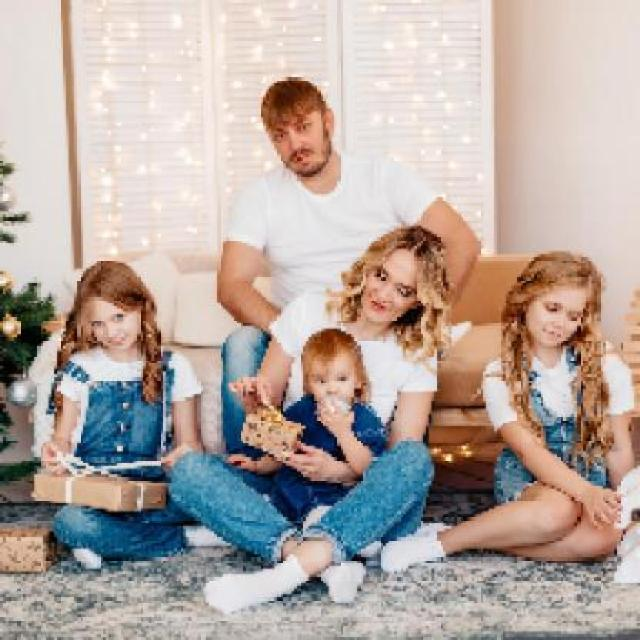child: (235, 327, 391, 536)
